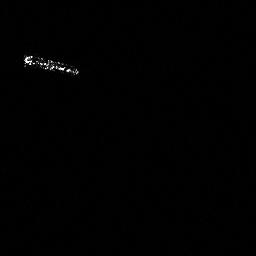ship: (23, 54, 79, 76)
